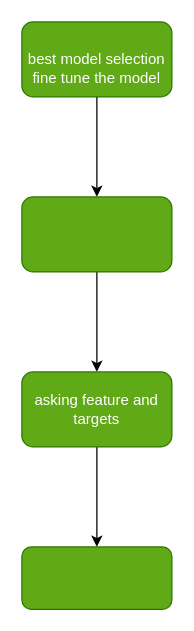
Image size: 194x631. Some labels were removed from this diagram. Here are the shapes that lost their labels. From the top down, the centre of each, then its label:
At [96,234]: "load /upload the data".
At [96,577]: "preprocessing".
